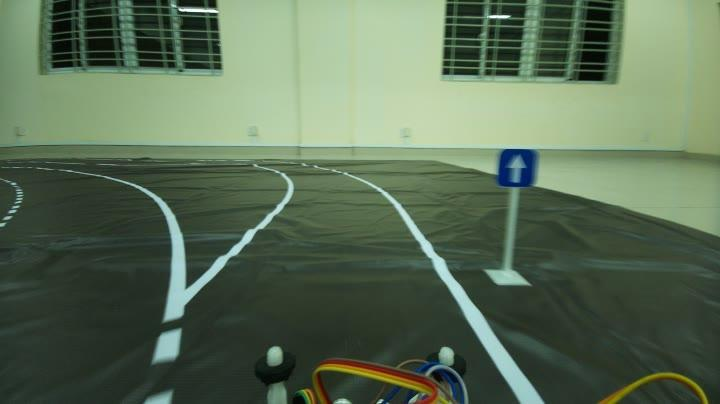onewayroad: (496, 146, 544, 192)
